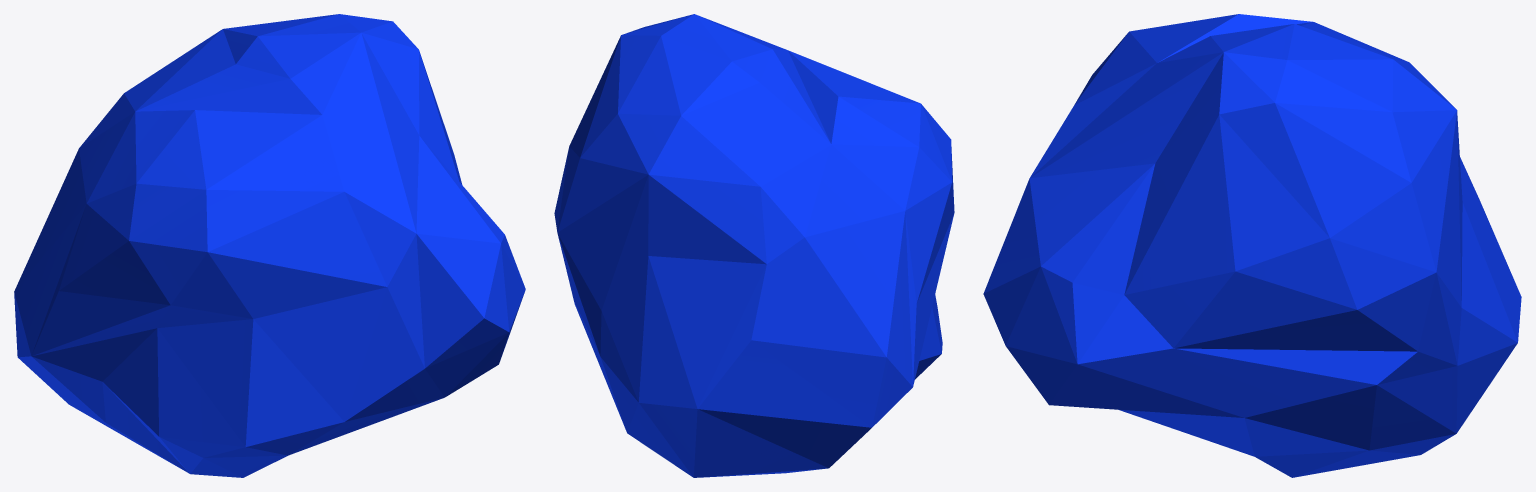
File: SM_emissive_rock_10.fbx
3 renders of one model, left to right at view 1: azimuth 30°, elevation 25°; view 2: azimuth 150°, elevation 25°; view 3: azimuth 270°, elevation 25°, orthographic. The views are drawn at different scales.
Parts seen in each view (by area): view 1: emissive_rock_10; view 2: emissive_rock_10; view 3: emissive_rock_10.
Boxes of the visible parts, bbox=[...] form: emissive_rock_10: bbox=[14, 14, 525, 477]; emissive_rock_10: bbox=[554, 14, 954, 477]; emissive_rock_10: bbox=[983, 14, 1521, 477].
Size of the model in its own units: 144 by 151 by 159.
